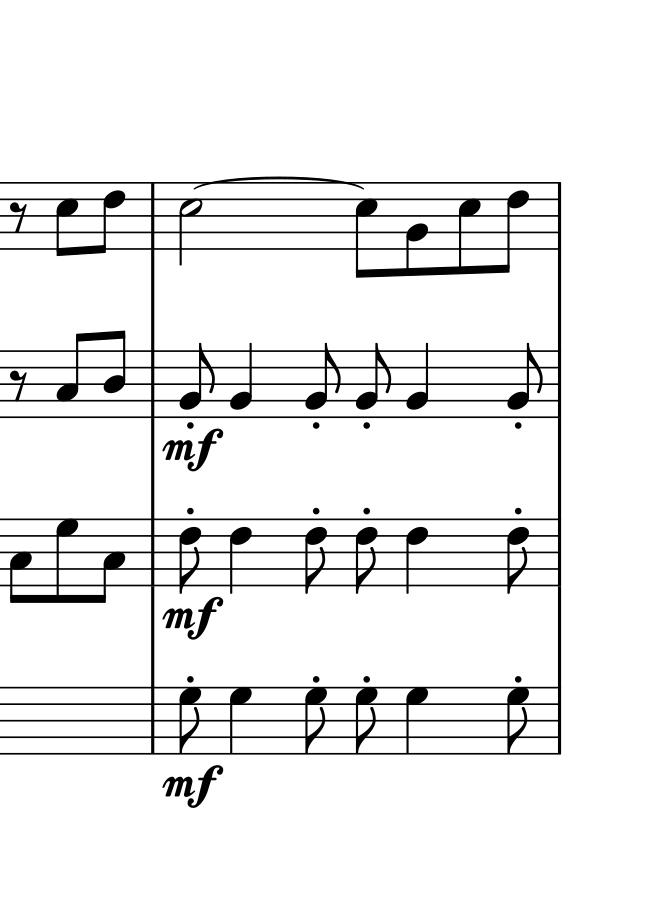2_5: (177, 181, 202, 269)
4_2: (404, 342, 432, 420), (229, 342, 255, 420)
4_6: (226, 517, 257, 596), (403, 515, 431, 594)
4_7: (404, 684, 432, 753), (228, 686, 256, 755)
8_2: (502, 341, 547, 420), (175, 340, 215, 418), (352, 342, 391, 420), (303, 342, 339, 416), (403, 179, 430, 277)
8_3: (92, 516, 127, 608), (57, 331, 91, 418), (8, 516, 35, 606)
8_4: (103, 329, 130, 420)
8_5: (453, 179, 482, 277), (353, 180, 379, 283), (54, 180, 79, 260)
8_6: (497, 179, 531, 276), (95, 180, 127, 256), (504, 516, 531, 595), (302, 517, 330, 593), (352, 517, 380, 593), (177, 519, 203, 595)
8_7: (52, 516, 79, 608), (302, 686, 331, 758), (504, 685, 535, 752), (176, 685, 203, 756), (354, 687, 376, 753)
Rests8: (5, 198, 30, 238), (4, 368, 33, 402)
Single_barline: (549, 350, 567, 419), (144, 182, 161, 251), (550, 518, 567, 587), (550, 686, 566, 756), (145, 519, 161, 584), (145, 687, 160, 753), (552, 181, 566, 251), (146, 349, 160, 418)
Slur: (191, 174, 364, 191)
mf: (161, 427, 223, 474), (161, 763, 222, 810), (164, 595, 223, 643)
